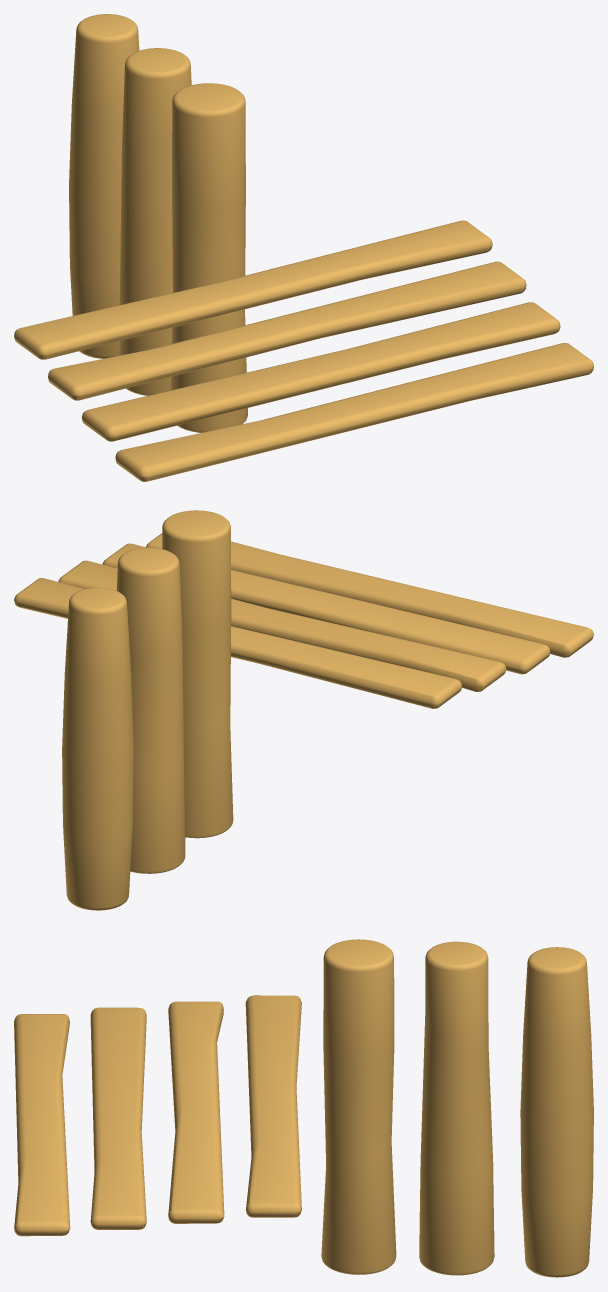
Rendered from Wooden Fence Parts.fbx.
The picture shows the model from 3 angles, top to bottom: view 1: azimuth 30°, elevation 25°; view 2: azimuth 150°, elevation 25°; view 3: azimuth 270°, elevation 25°; orthographic projection. The views are drawn at different scales.
Visible parts, largest first — view 1: Pole 1, Plank 2, Plank 1, Plank 3, Pole 3, Plank 4, Pole 2; view 2: Pole 3, Pole 2, Pole 1, Plank 3, Plank 2, Plank 1, Plank 4; view 3: Pole 1, Pole 2, Pole 3, Plank 2, Plank 1, Plank 3, Plank 4.
Boxes of the visible parts, x1,y1,x2,y2 form: Pole 1: (170,83,247,432); Plank 2: (81,302,560,441); Plank 1: (14,220,492,359); Plank 3: (115,343,593,481); Pole 3: (69,14,139,358); Plank 4: (48,261,526,400); Pole 2: (119,48,191,395); Pole 3: (62,587,133,910); Pole 2: (116,547,185,873); Pole 1: (162,510,233,838); Plank 3: (146,533,593,657); Plank 2: (102,543,550,674); Plank 1: (14,578,462,708); Plank 4: (58,560,506,691); Pole 1: (321,939,396,1274); Pole 2: (419,941,494,1275); Pole 3: (520,947,593,1277); Plank 2: (90,1007,146,1229); Plank 1: (245,995,301,1217); Plank 3: (14,1014,70,1236); Plank 4: (168,1001,224,1223).
Size of the model in its own units: 209 by 137 by 230.
